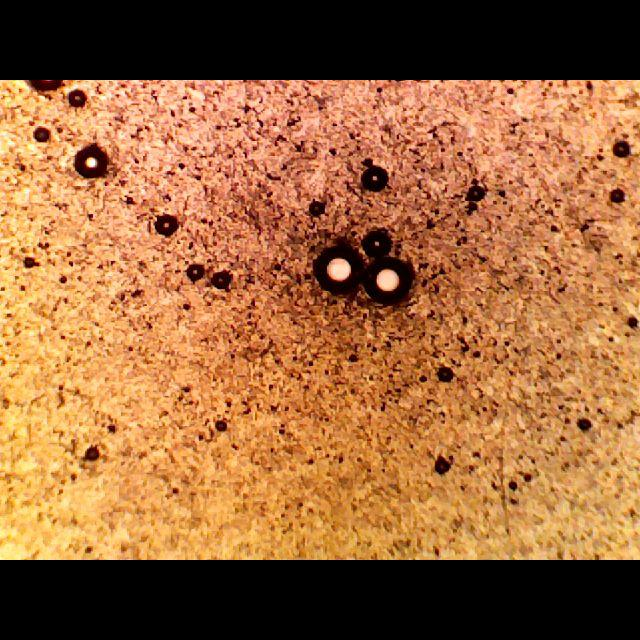microbeads: (361, 249, 415, 315), (306, 240, 366, 298)
